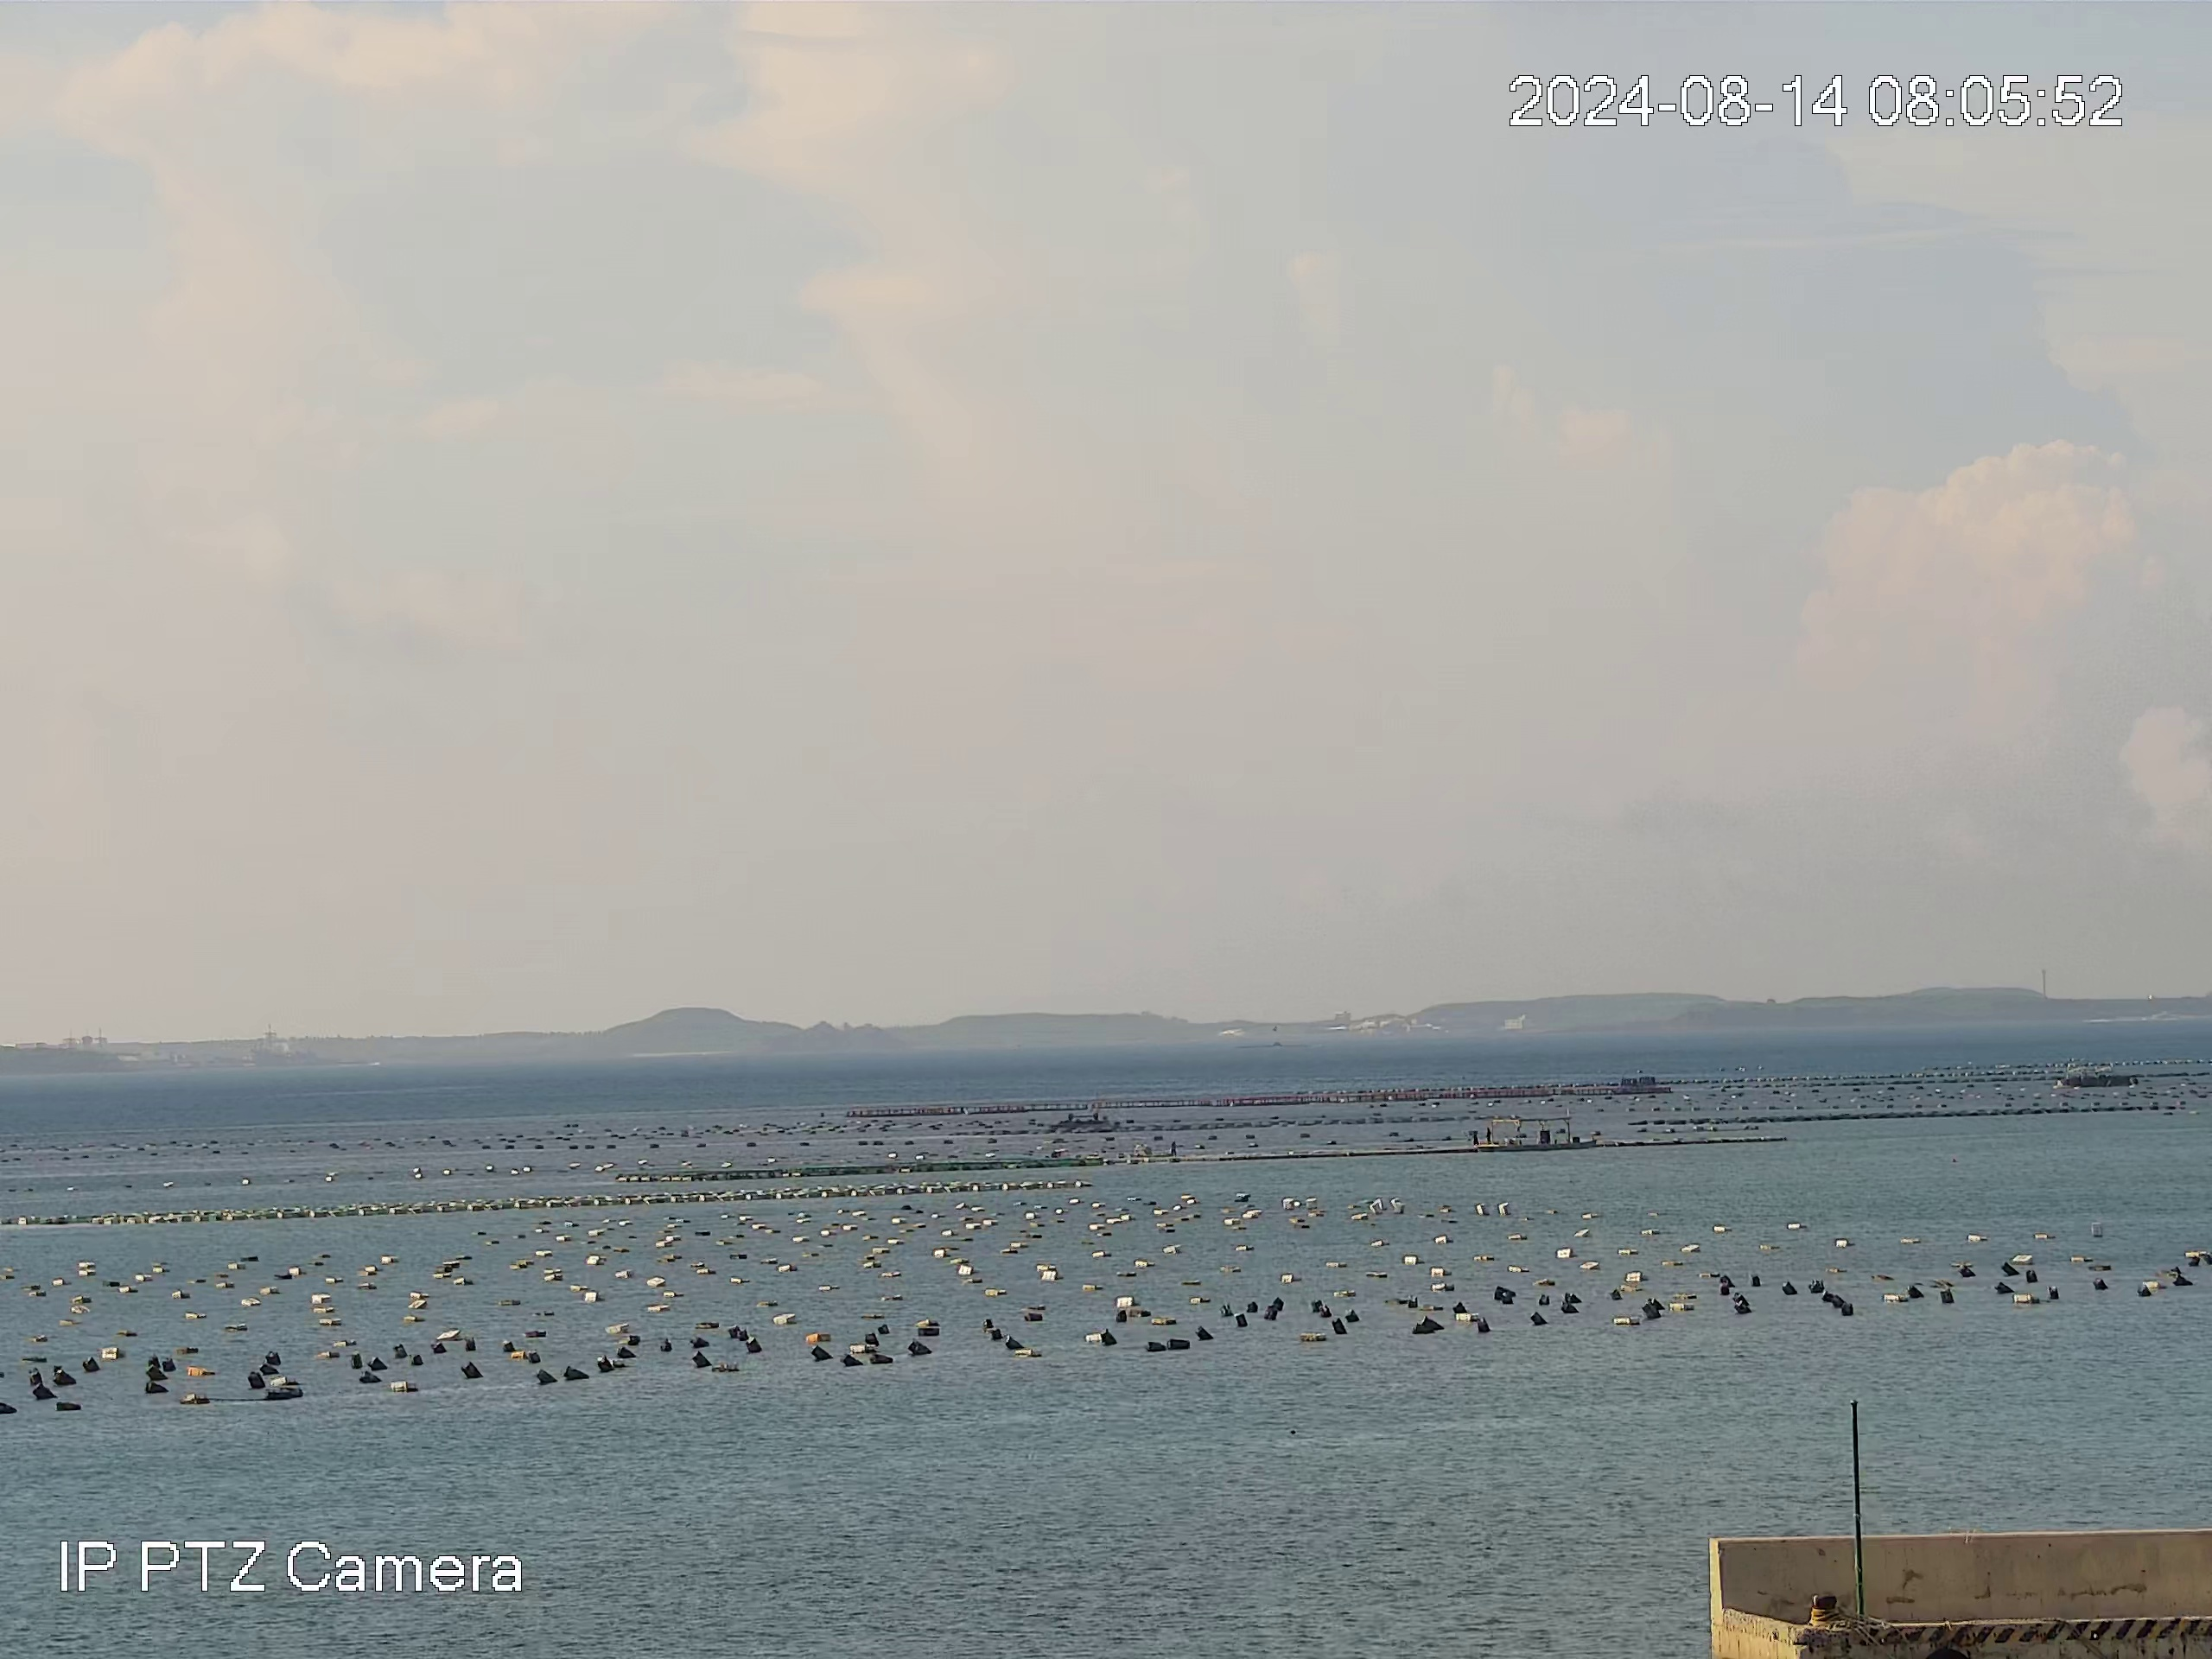boat: (1474, 1114, 1597, 1145), (2055, 1065, 2148, 1089)
